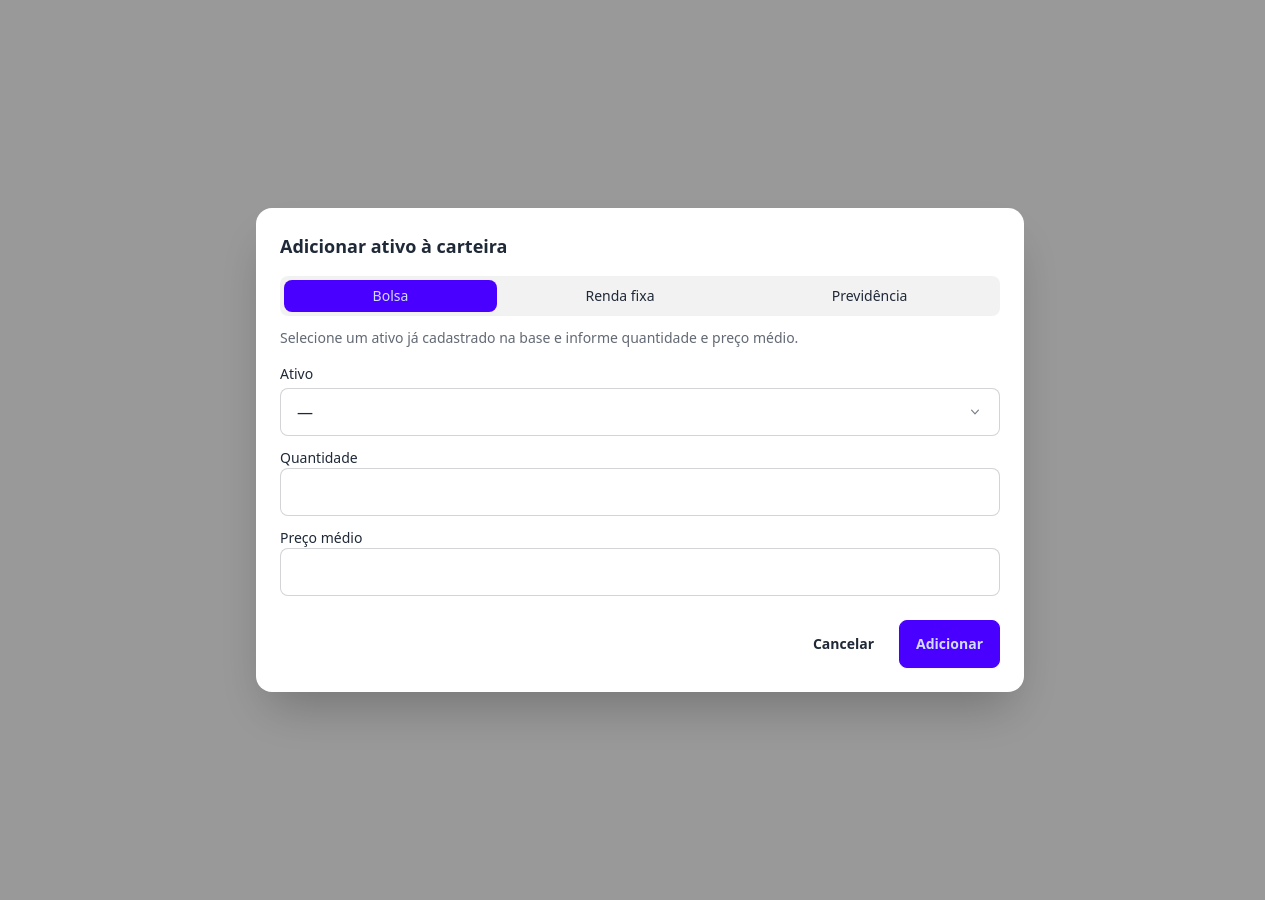
PortfolioAddAssetModal › bloqueia cadastro de renda fixa sem valor aplicado
Click the tab "Renda fixa".
click(620, 296)  # box top-left (497, 280), bottom-right (743, 312)
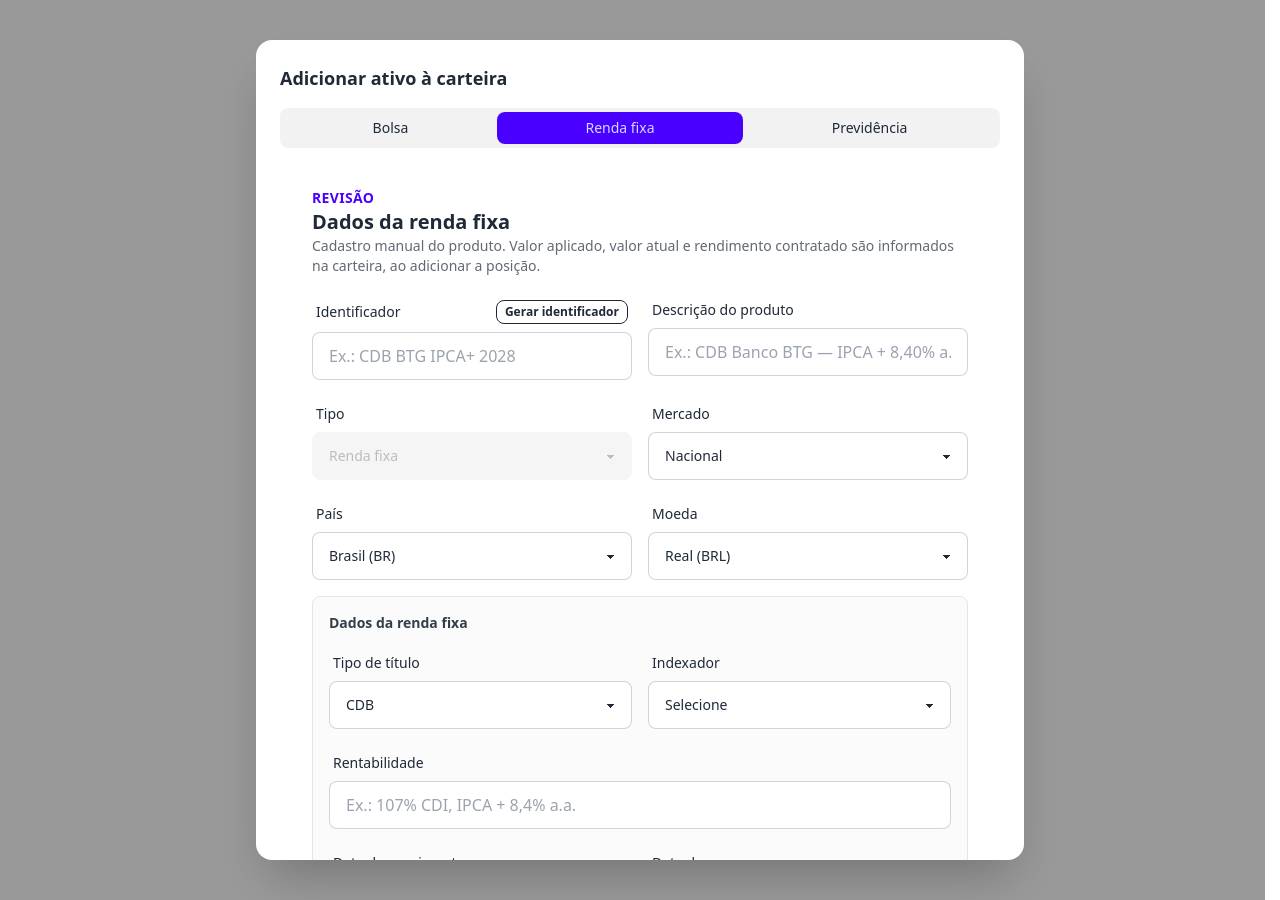
Type "LCI XP" into the field with placeholder "Ex.: CDB BTG IPCA+ 2028".
click(472, 356); type("LCI XP")  # box top-left (312, 332), bottom-right (632, 380)
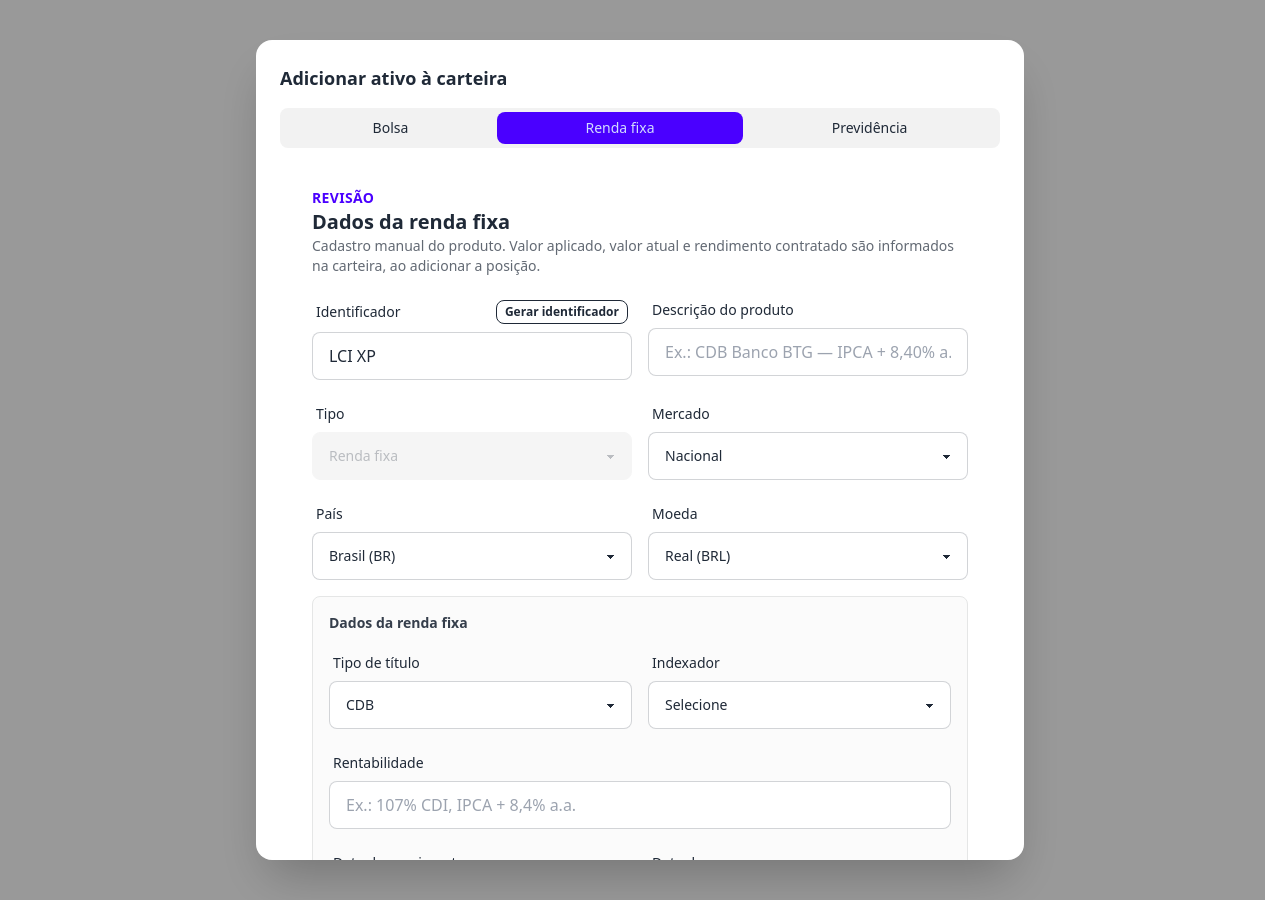
Type "LCI XP" into the field with placeholder "Ex.: CDB Banco BTG — IPCA + 8,40% a.a.".
click(808, 352); type("LCI XP")  # box top-left (648, 328), bottom-right (968, 376)
(page scrolled)
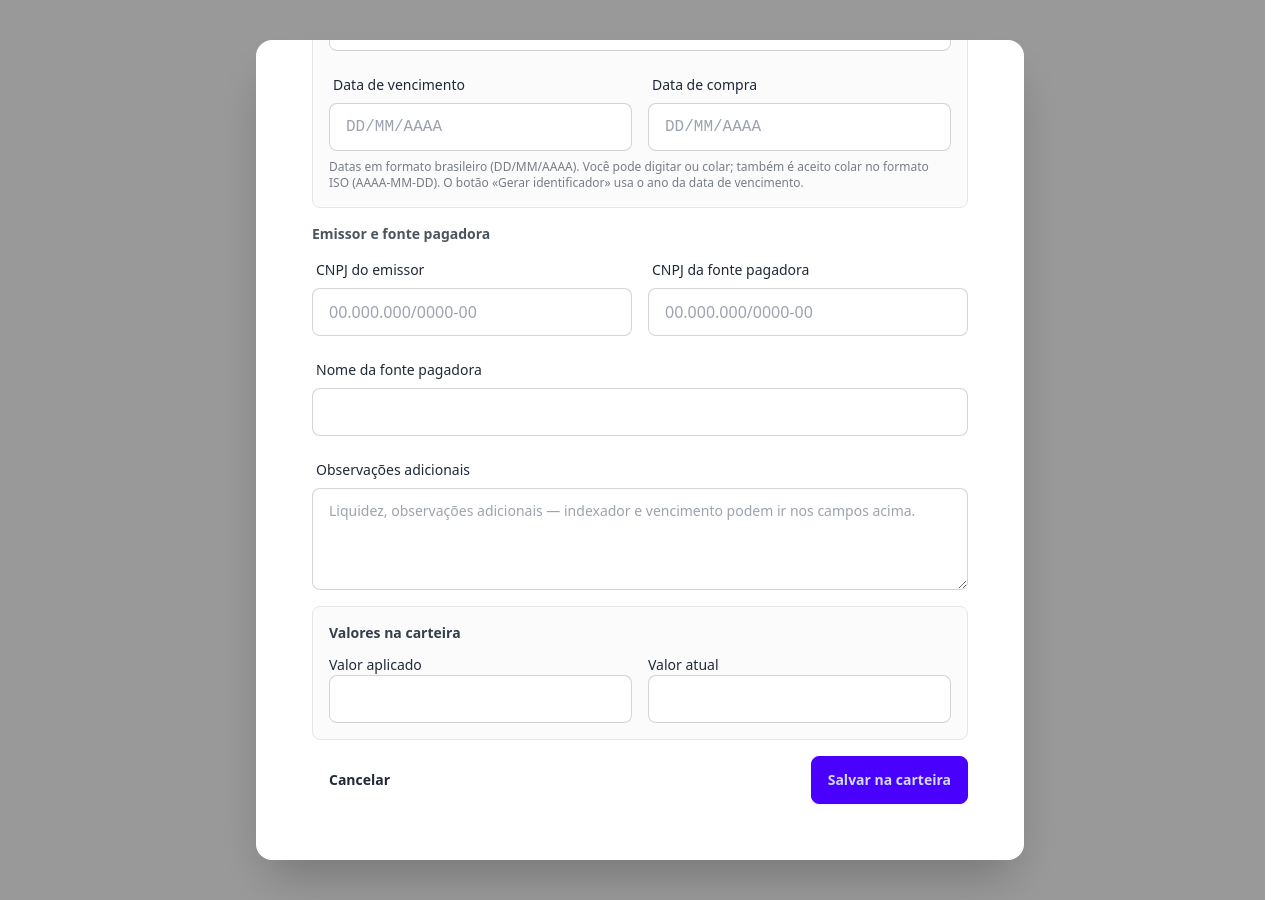
Click the button "Salvar na carteira".
click(889, 780)  # box top-left (811, 756), bottom-right (968, 804)
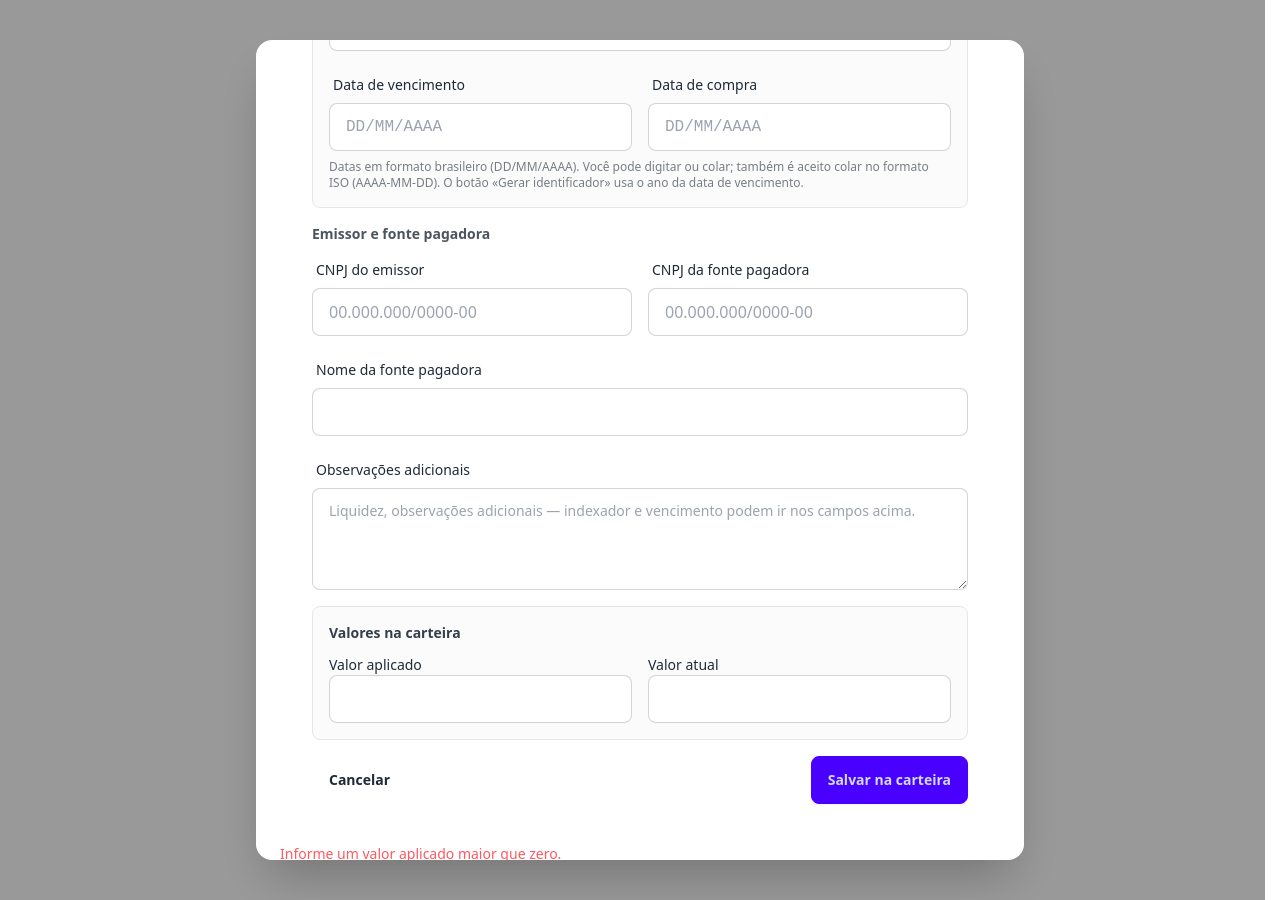
expect the text "Informe um valor aplicado maior que zero." is shown: met, box top-left (280, 844), bottom-right (561, 860)
